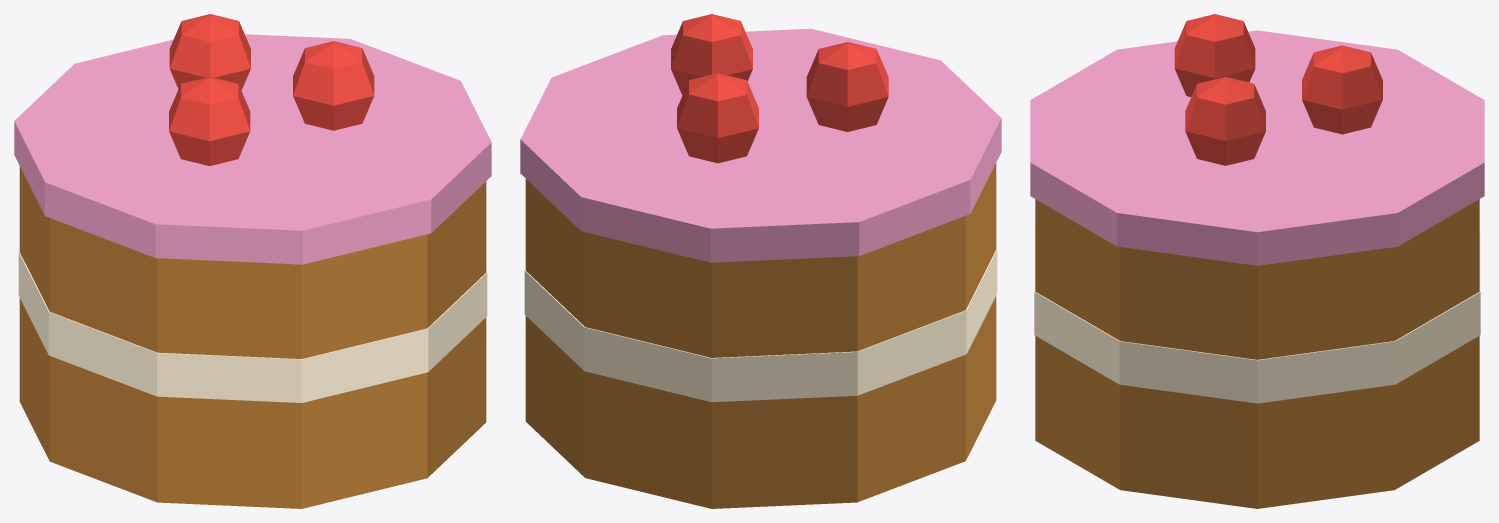
Rendered from 05-cake.glb.
3 views of the same model, side by side, from view 1: azimuth 30°, elevation 25°; view 2: azimuth 150°, elevation 25°; view 3: azimuth 270°, elevation 25° (orthographic).
Visible parts, largest first — view 1: 05-cake__PinkFrosting, 05-cake__SpongeLower, 05-cake__SpongeUpper, 05-cake__CreamFilling, 05-cake__Berry_1, 05-cake__Berry_0, 05-cake__Berry_2; view 2: 05-cake__PinkFrosting, 05-cake__SpongeLower, 05-cake__SpongeUpper, 05-cake__CreamFilling, 05-cake__Berry_0, 05-cake__Berry_2, 05-cake__Berry_1; view 3: 05-cake__PinkFrosting, 05-cake__SpongeLower, 05-cake__SpongeUpper, 05-cake__CreamFilling, 05-cake__Berry_2, 05-cake__Berry_1, 05-cake__Berry_0.
Boxes of the visible parts, x1,y1,x2,y2 form: 05-cake__PinkFrosting: (14, 34, 491, 264); 05-cake__SpongeLower: (19, 298, 486, 508); 05-cake__SpongeUpper: (19, 166, 486, 358); 05-cake__CreamFilling: (18, 251, 487, 402); 05-cake__Berry_1: (293, 41, 374, 130); 05-cake__Berry_0: (169, 76, 250, 165); 05-cake__Berry_2: (169, 14, 250, 90); 05-cake__PinkFrosting: (520, 28, 1001, 262); 05-cake__SpongeLower: (525, 296, 996, 508); 05-cake__SpongeUpper: (525, 163, 996, 357); 05-cake__CreamFilling: (524, 249, 997, 402); 05-cake__Berry_0: (806, 42, 888, 131); 05-cake__Berry_2: (677, 73, 758, 163); 05-cake__Berry_1: (671, 14, 752, 95); 05-cake__PinkFrosting: (1030, 30, 1484, 265); 05-cake__SpongeLower: (1035, 336, 1479, 508); 05-cake__SpongeUpper: (1035, 199, 1479, 359); 05-cake__CreamFilling: (1034, 230, 1480, 403); 05-cake__Berry_2: (1302, 45, 1382, 134); 05-cake__Berry_1: (1185, 77, 1265, 165); 05-cake__Berry_0: (1174, 14, 1255, 96).
Size of the model in its own units: 0.45 by 0.378 by 0.428.
